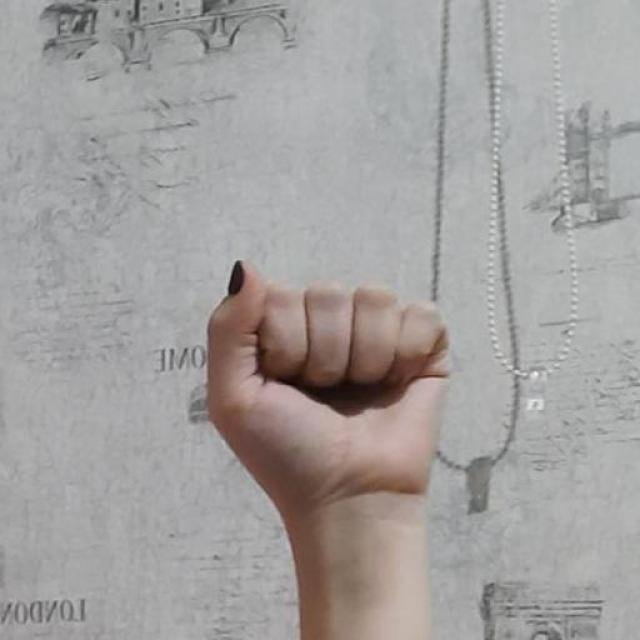hand: (203, 258, 452, 516)
